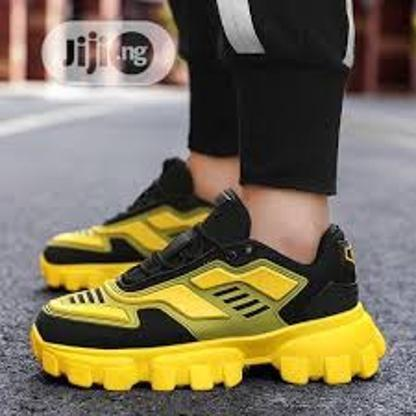not trash: (31, 157, 387, 386)
